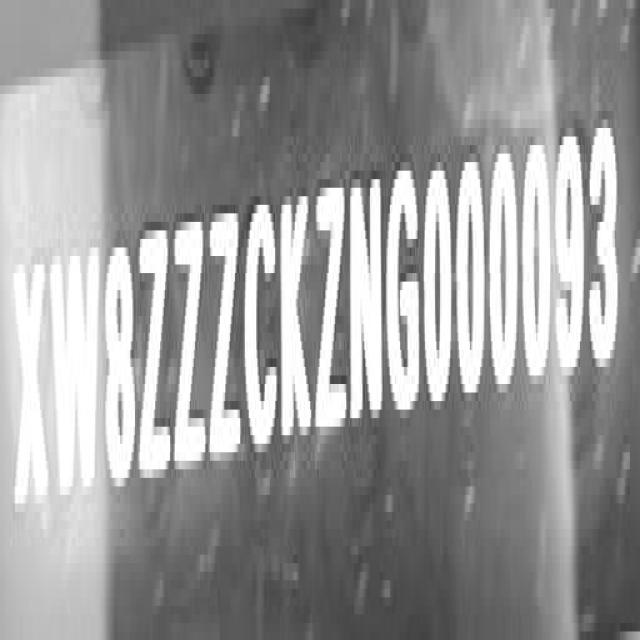0: (488, 130, 518, 426), (455, 145, 486, 411), (520, 142, 551, 398), (422, 158, 453, 411)
3: (587, 110, 620, 370)
8: (103, 250, 136, 480)
9: (551, 133, 585, 376)
C: (241, 183, 281, 449)
G: (385, 164, 420, 414)
K: (278, 165, 315, 455)
N: (347, 168, 386, 433)
W: (50, 243, 100, 500)
X: (14, 244, 48, 518)
Z: (135, 206, 171, 484), (206, 193, 243, 461), (312, 165, 348, 436), (172, 199, 207, 471)
